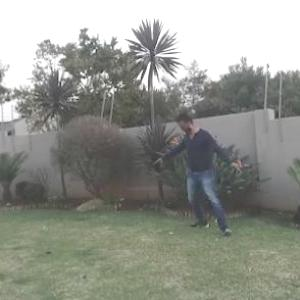land: (135, 100, 256, 249)
